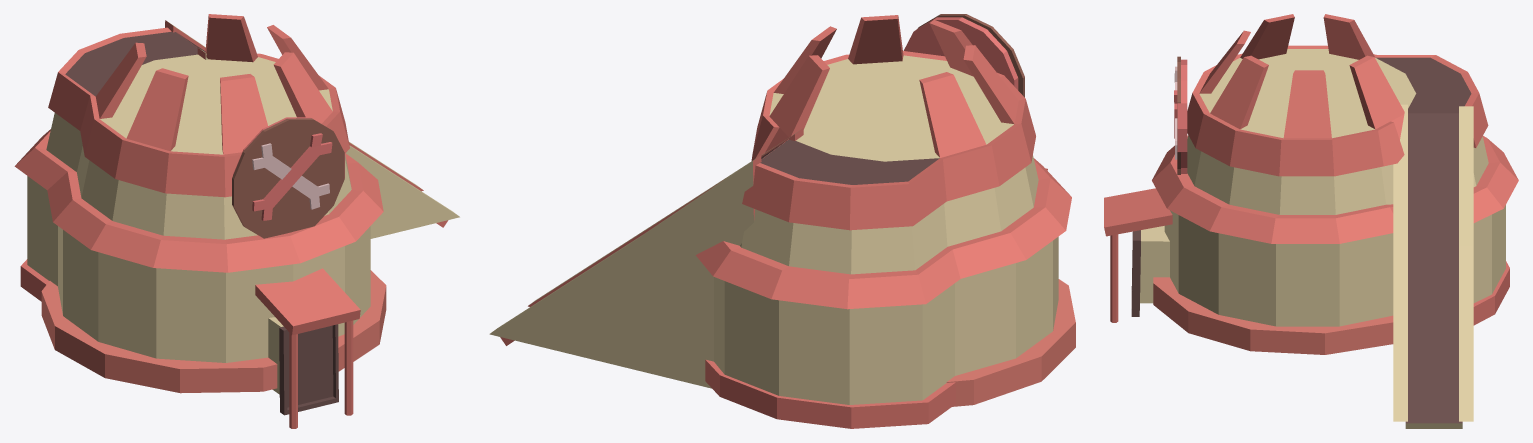
Rendered from Boenaha_Town_Center.fbx.
3 views of the same model, side by side, from view 1: azimuth 30°, elevation 25°; view 2: azimuth 150°, elevation 25°; view 3: azimuth 270°, elevation 25° (orthographic). The views are drawn at different scales.
Parts seen in each view (by area): view 1: Cube.001, Cylinder, Cylinder.001, Cube.003; view 2: Cube.001, Cylinder, Cube.003, Cylinder.001; view 3: Cube.001, Cylinder, Cube.003.
Part boxes in pixels (<box>): Cube.001: <box>14,14,459,428</box>; Cylinder: <box>41,270,386,393</box>; Cylinder.001: <box>232,118,344,238</box>; Cube.003: <box>233,117,344,220</box>; Cube.001: <box>489,15,1071,428</box>; Cylinder: <box>946,279,1075,406</box>; Cube.003: <box>903,17,1018,89</box>; Cylinder.001: <box>917,14,1024,97</box>; Cube.001: <box>1104,14,1518,428</box>; Cylinder: <box>1153,277,1393,354</box>; Cube.003: <box>1174,59,1187,173</box>.
Bounding box in the file's own units: 324 × 205 × 290.
